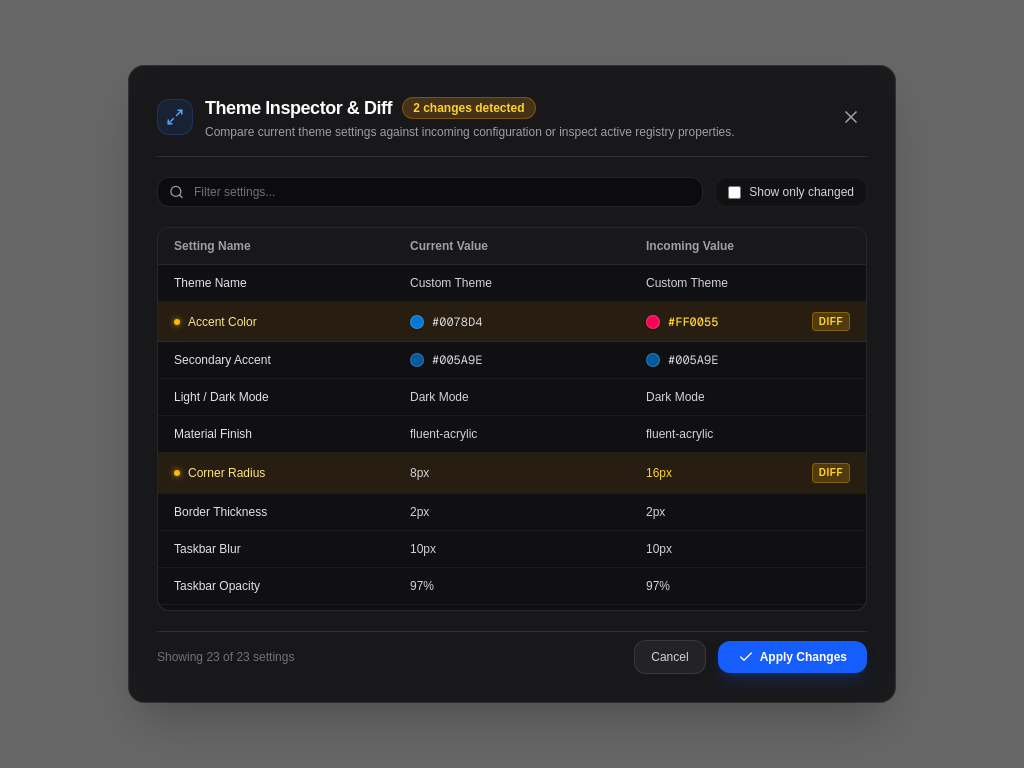
Test: ThemeDiffModal › filters rows based on search input
Check: the text "Accent Color" is shown, box [188,314,257,330]
Check: the text "Corner Radius" is shown, box [188,465,265,481]
Type "Corner" into the field with placeholder "Filter settings..." at (430, 192), box [157,177,703,207]
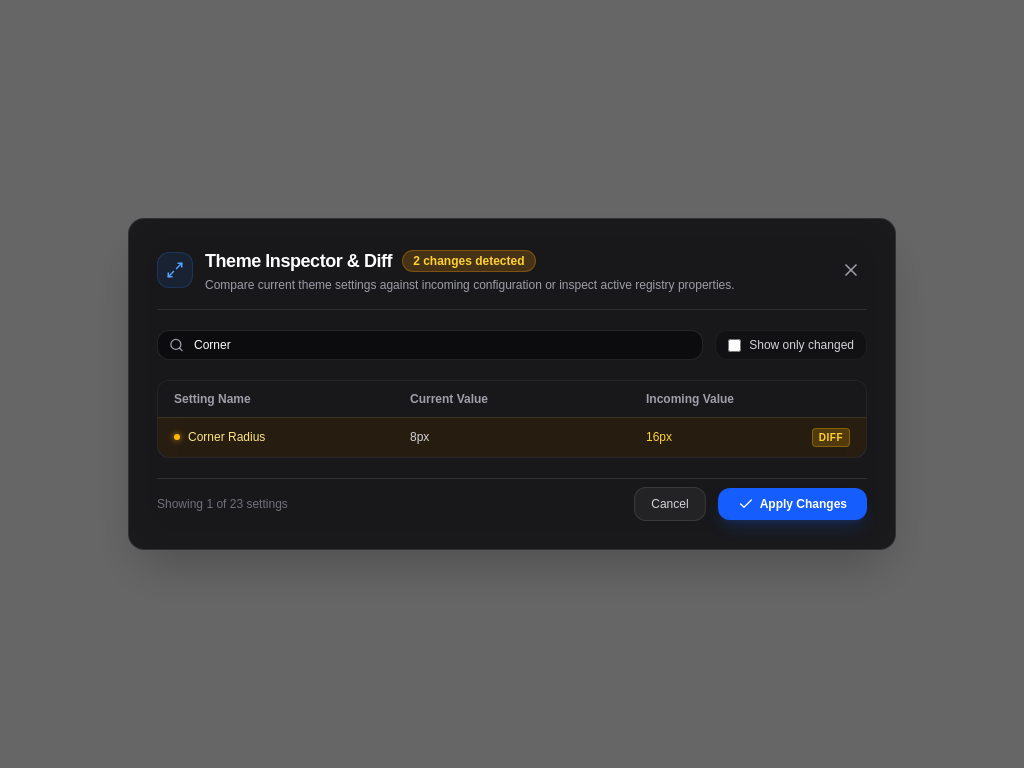
Check: the text "Corner Radius" is shown, box [188,430,265,446]
Check: the text "Accent Color" is gone
